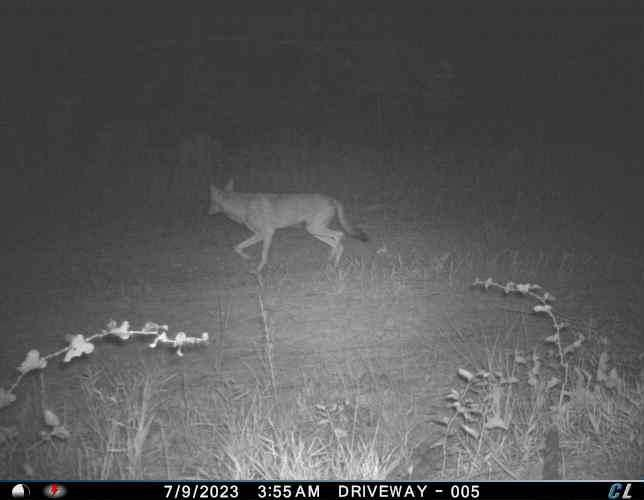Coyote: (203, 177, 371, 280)
